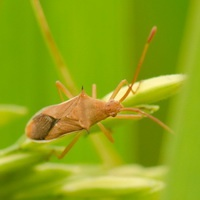insect: (26, 27, 171, 140)
